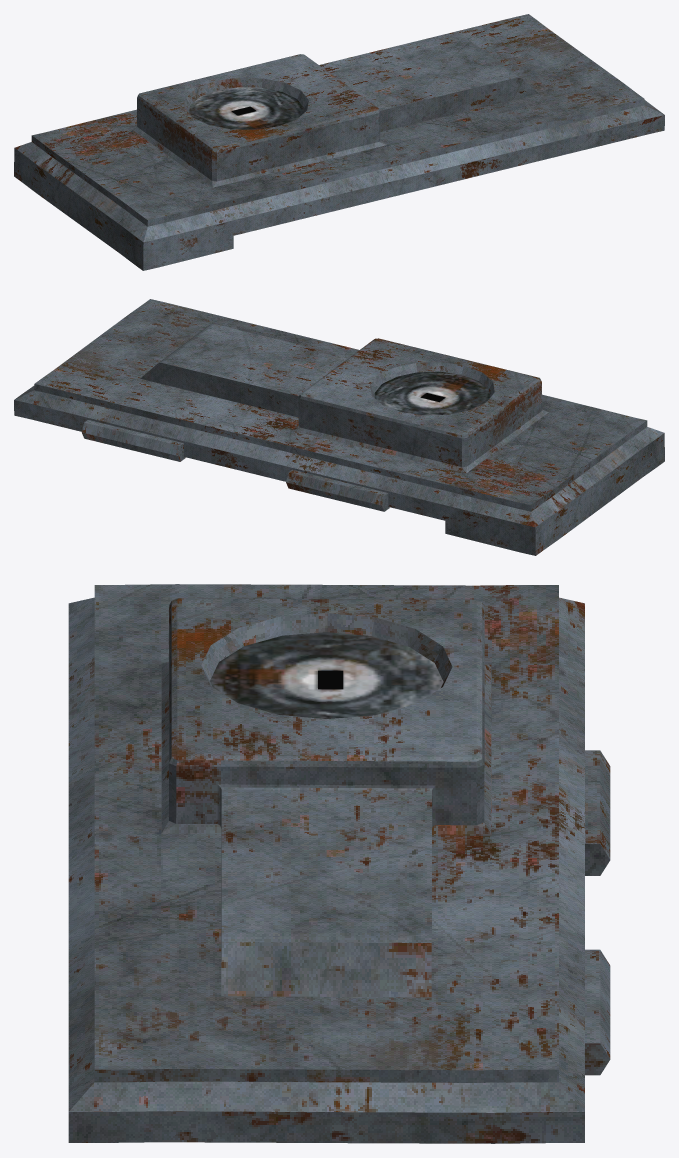
Rendered from signature machine lid1.glb.
3 renders of one model, top to bottom at view 1: azimuth 30°, elevation 25°; view 2: azimuth 150°, elevation 25°; view 3: azimuth 270°, elevation 25°, orthographic. The views are drawn at different scales.
Visible parts, largest first — view 1: signature machine lid; view 2: signature machine lid; view 3: signature machine lid.
Boxes of the visible parts, x1=… form: signature machine lid: x1=14, y1=14, x2=664, y2=270; signature machine lid: x1=14, y1=299, x2=664, y2=555; signature machine lid: x1=68, y1=584, x2=610, y2=1143.
Size of the model in its own units: 18.41 by 2.7 by 8.28.
3 materials, 2 textured.
